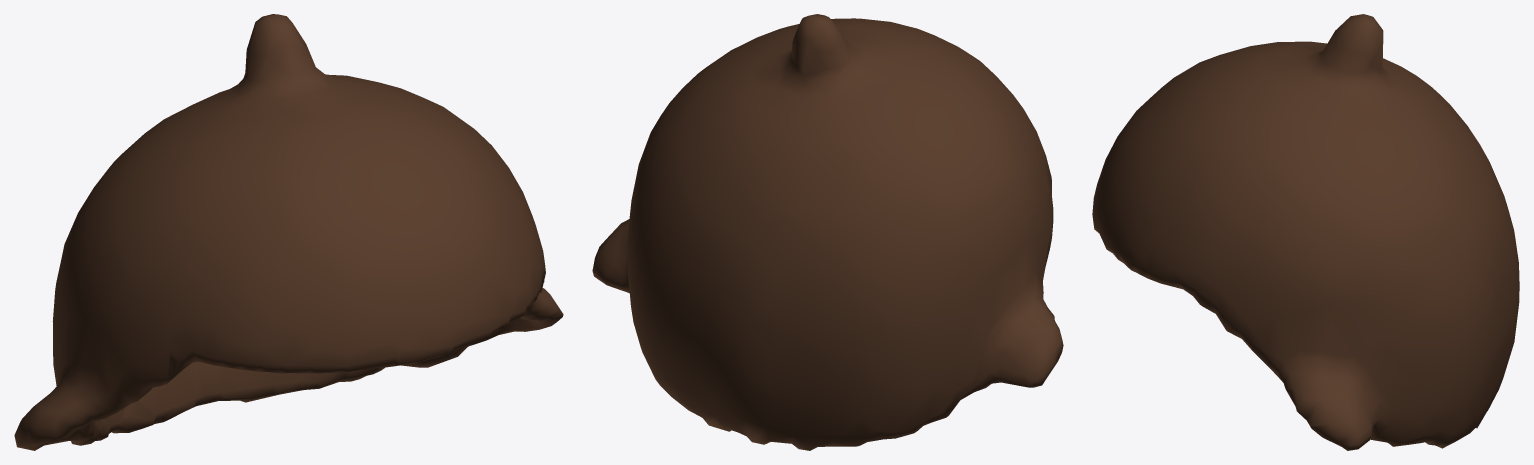
The model's file is hair_bun.glb.
3 renders of one model, left to right at view 1: azimuth 30°, elevation 25°; view 2: azimuth 150°, elevation 25°; view 3: azimuth 270°, elevation 25°, orthographic. The views are drawn at different scales.
Visible parts, largest first — view 1: HairBun.001; view 2: HairBun.001; view 3: HairBun.001.
Part boxes in pixels (<box>): HairBun.001: <box>14,14,563,450</box>; HairBun.001: <box>592,14,1063,450</box>; HairBun.001: <box>1092,14,1519,450</box>.
Bounding box in the file's own units: 0.357 × 0.2854 × 0.2847.
